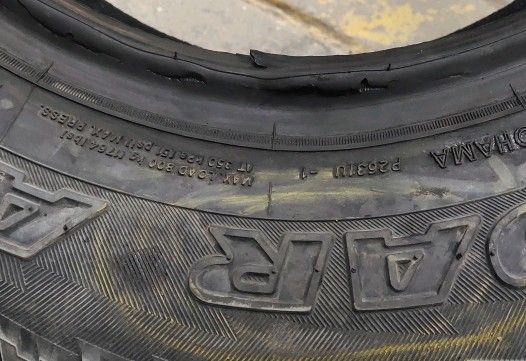bead_damage: (240, 42, 484, 101), (13, 3, 121, 62), (145, 64, 214, 89)
